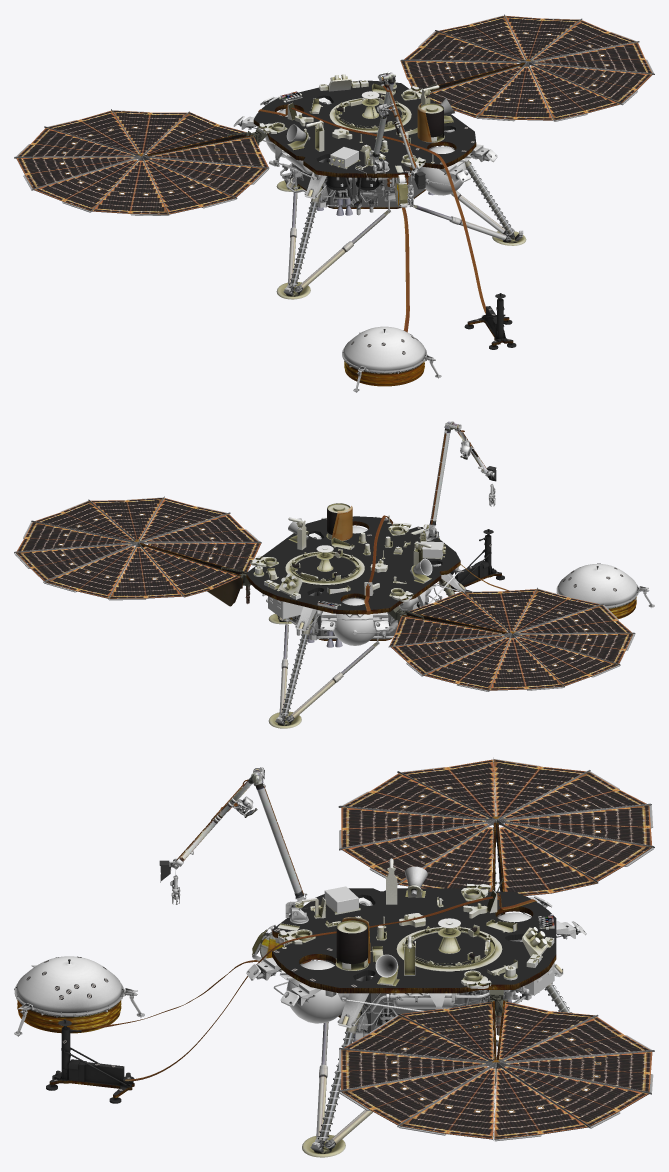
The model's file is insight.glb.
The picture shows the model from 3 angles, top to bottom: view 1: azimuth 30°, elevation 25°; view 2: azimuth 150°, elevation 25°; view 3: azimuth 270°, elevation 25°; orthographic projection. The views are drawn at different scales.
Visible parts, largest first — view 1: insight_deployed; view 2: insight_deployed; view 3: insight_deployed.
Boxes of the visible parts, x1,y1,x2,y2 form: insight_deployed: (14, 14, 654, 392); insight_deployed: (14, 421, 654, 728); insight_deployed: (14, 757, 654, 1157).
Bounding box in the file's own units: 6.14 × 2.19 × 4.35.
Materials: 12 (10 with a texture image).
